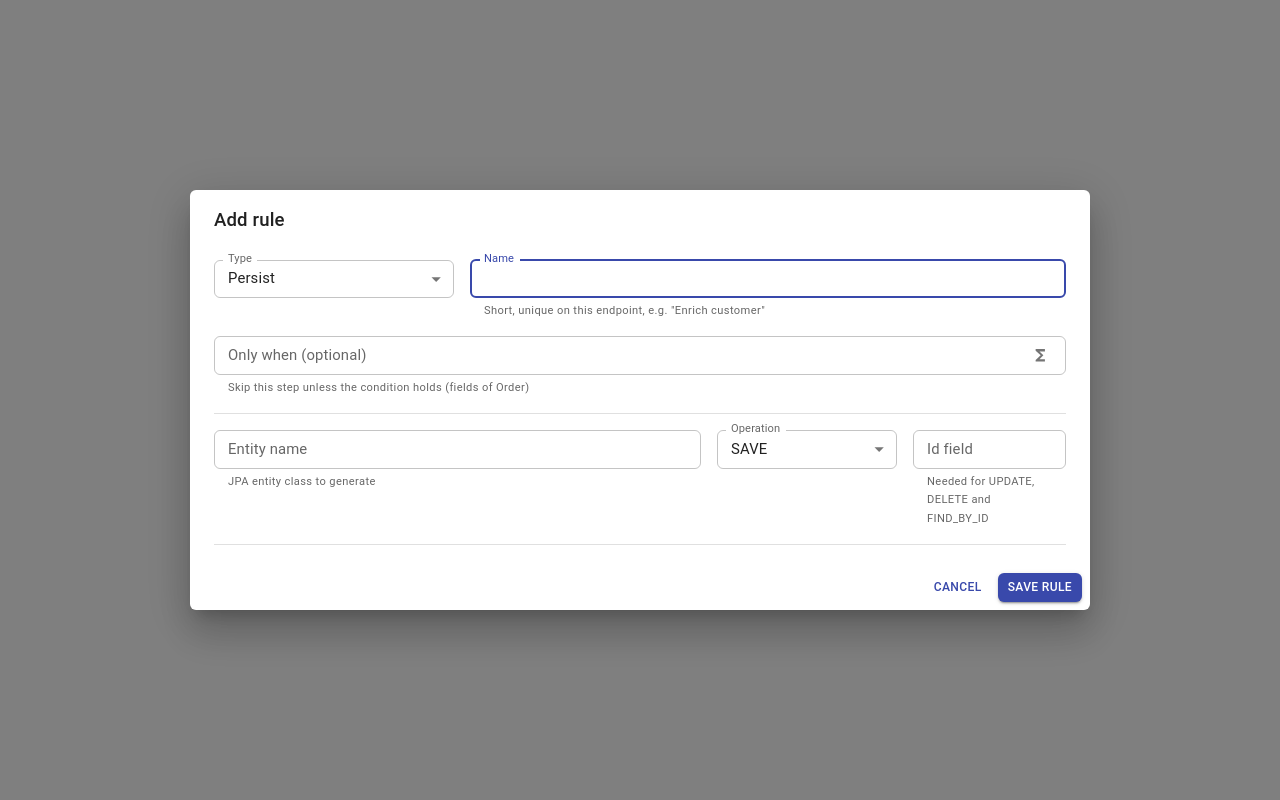
Test: RuleDialog › suggests field paths of the payload the rule works on
Click the dropdown labelled "Id field": [973, 449] box [919,436,1027,462]
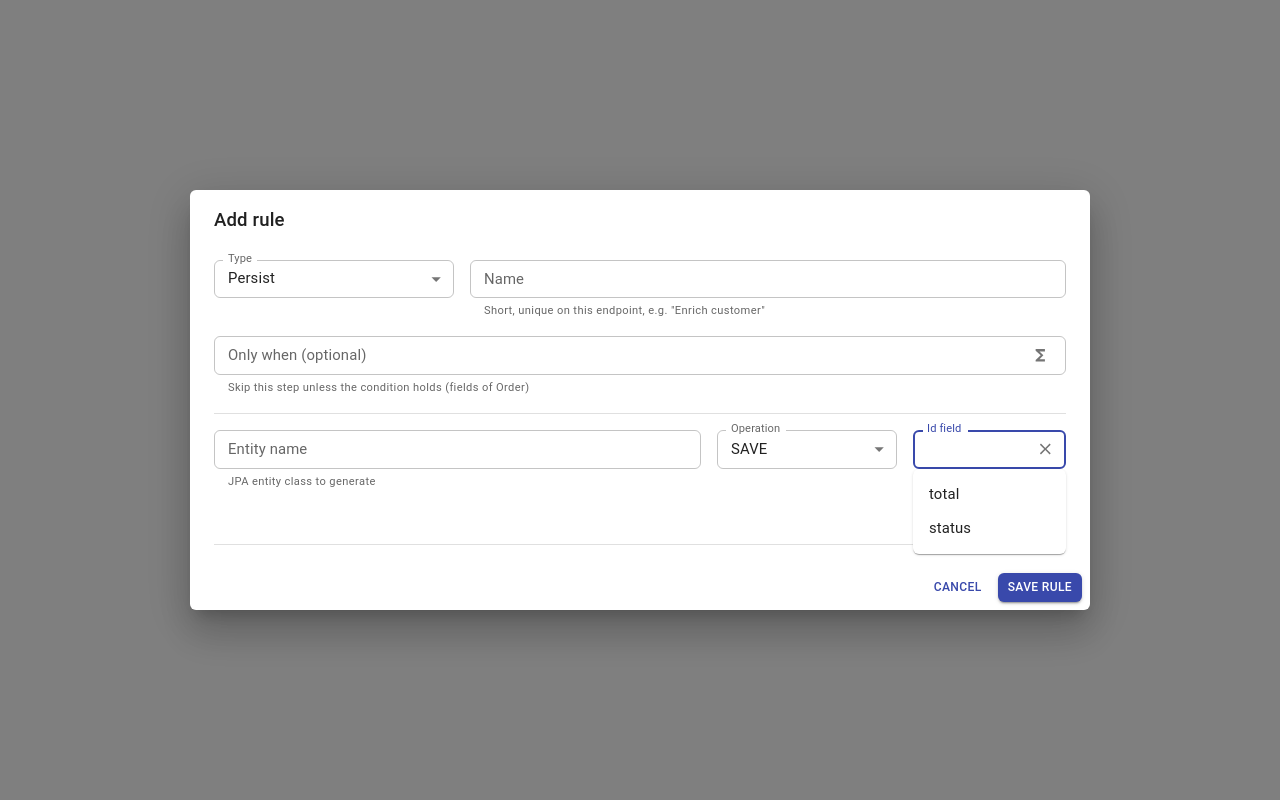
Result: the options read "total", "status", in this order at [929,485,959,503]; [929,519,971,537]
